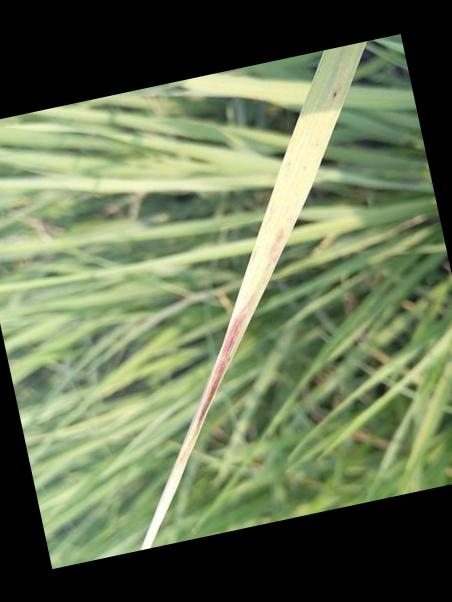Leaf Blight: (142, 97, 341, 550)
